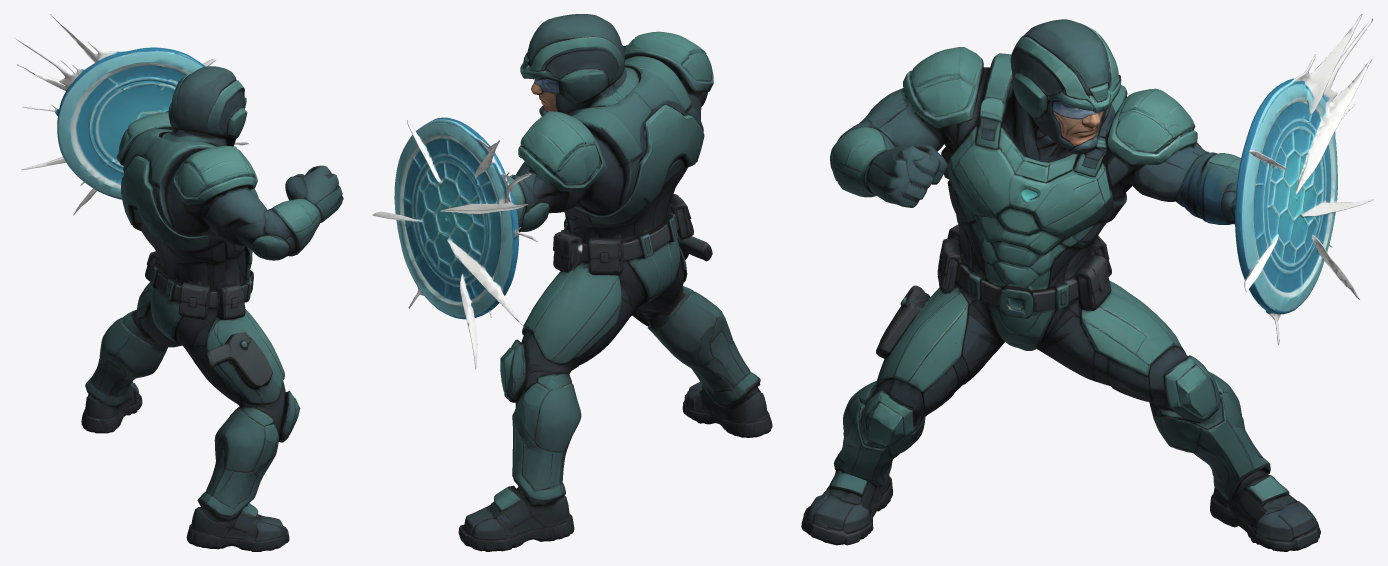
The model's file is vanguard.glb.
The picture shows the model from 3 angles, left to right: view 1: azimuth 30°, elevation 25°; view 2: azimuth 150°, elevation 25°; view 3: azimuth 270°, elevation 25°; orthographic projection. The views are drawn at different scales.
Visible parts, largest first — view 1: tripo_node_5236e421-ea17-4130-a013-ac57ebc94ef2; view 2: tripo_node_5236e421-ea17-4130-a013-ac57ebc94ef2; view 3: tripo_node_5236e421-ea17-4130-a013-ac57ebc94ef2.
Boxes of the visible parts, box(x1,y1,x2,y2) form: tripo_node_5236e421-ea17-4130-a013-ac57ebc94ef2: box(14, 14, 343, 551); tripo_node_5236e421-ea17-4130-a013-ac57ebc94ef2: box(372, 14, 772, 551); tripo_node_5236e421-ea17-4130-a013-ac57ebc94ef2: box(801, 14, 1373, 551).
Bounding box in the file's own units: 0.5345 × 1 × 0.987.
Materials: 1 (1 with a texture image).
